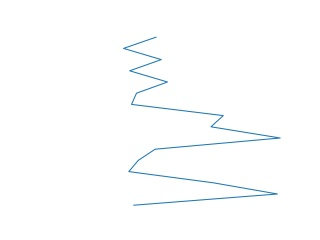majorRiverBedLagDeposit: (118, 33, 287, 206)
